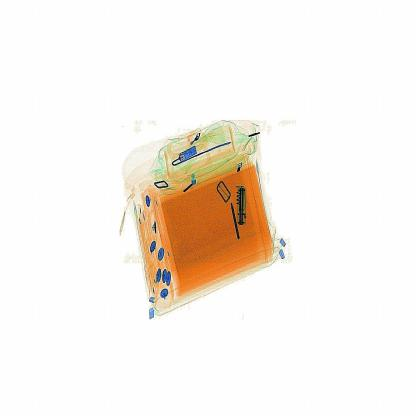scissors: (234, 175, 264, 238)
